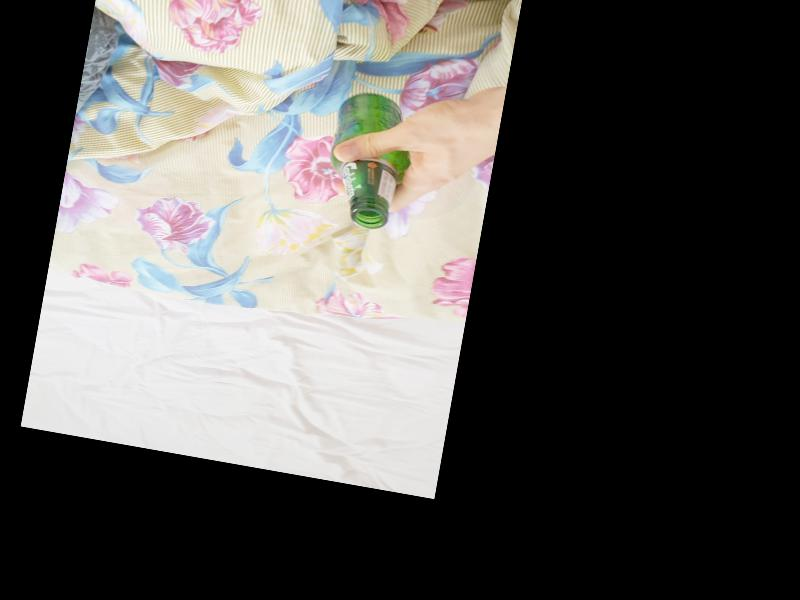Beer: (321, 88, 421, 231)
